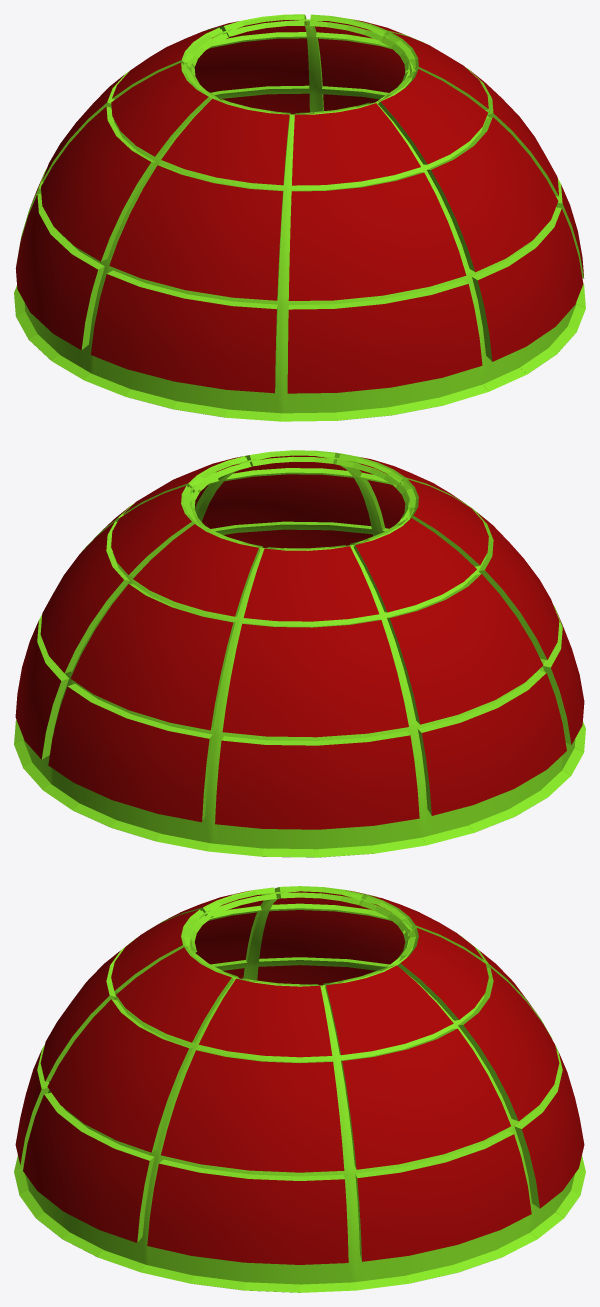
File: DomeWBH.fbx
3 renders of one model, top to bottom at view 1: azimuth 30°, elevation 25°; view 2: azimuth 150°, elevation 25°; view 3: azimuth 270°, elevation 25°, orthographic.
Visible parts, largest first — view 1: pSphere6; view 2: pSphere6; view 3: pSphere6.
Part boxes in pixels (box(x1,y1,x2,y2)): pSphere6: box(14, 14, 585, 421); pSphere6: box(14, 450, 585, 857); pSphere6: box(14, 886, 585, 1292).
Size of the model in its own units: 215 by 97.68 by 215.
